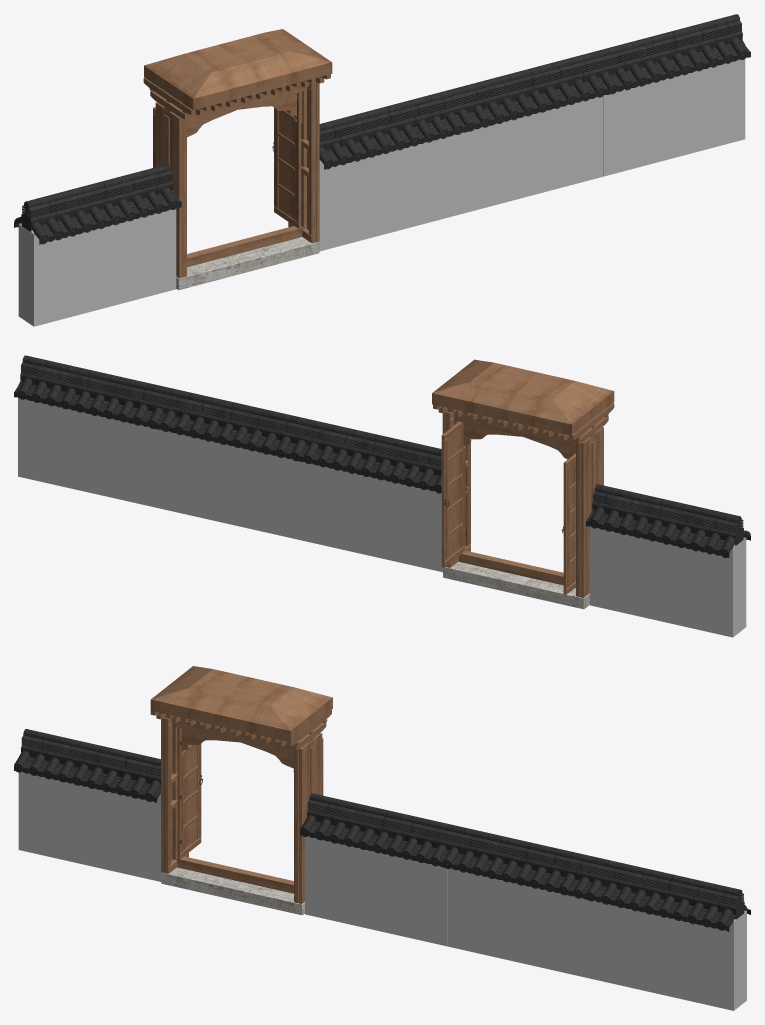
Rendered from SM_HBJ_HG_StoneWallH_Splines_18.fbx.
3 renders of one model, top to bottom at view 1: azimuth 30°, elevation 25°; view 2: azimuth 150°, elevation 25°; view 3: azimuth 330°, elevation 25°, orthographic. The views are drawn at different scales.
Visible parts, largest first — view 1: SM_HBJ_HG_StoneWallH_Splines_18; view 2: SM_HBJ_HG_StoneWallH_Splines_18; view 3: SM_HBJ_HG_StoneWallH_Splines_18.
Part boxes in pixels (left/top/right/bottom): SM_HBJ_HG_StoneWallH_Splines_18: left=14, top=14, right=750, bottom=326; SM_HBJ_HG_StoneWallH_Splines_18: left=14, top=355, right=750, bottom=637; SM_HBJ_HG_StoneWallH_Splines_18: left=14, top=666, right=750, bottom=1010.
Bounding box in the file's own units: 1132 × 133 × 315.
